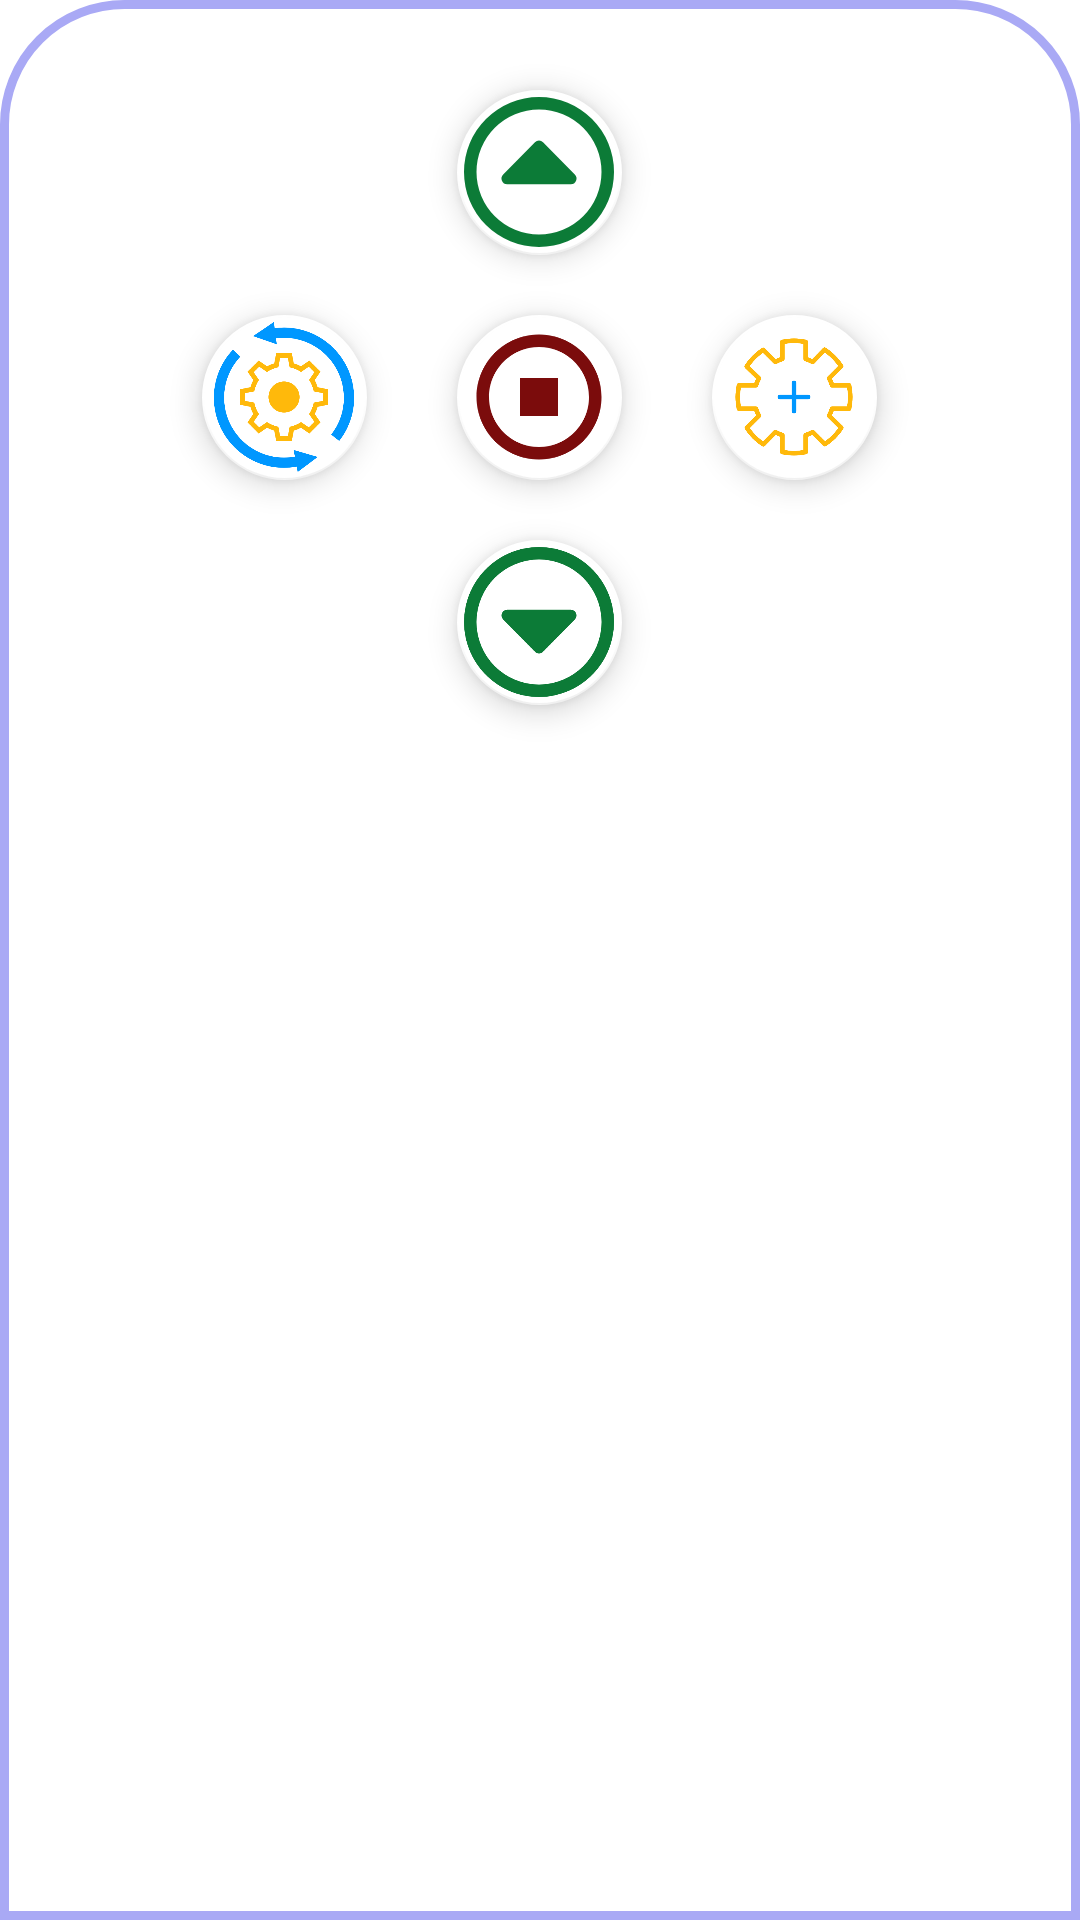

Where to tap for icons on this 1080px×1920px app screen, as point (x, y):
add config: point (806, 409)
down: point (539, 626)
reset config: point (278, 401)
stop: point (539, 407)
